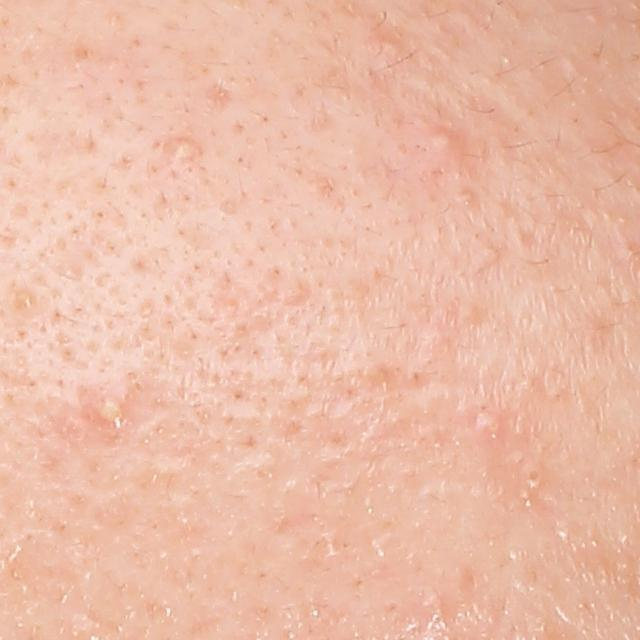atrophic_scar: (203, 79, 238, 108)
comedo: (165, 128, 205, 162), (469, 410, 505, 445), (365, 36, 402, 58), (519, 464, 544, 490), (18, 287, 40, 313)
pustule: (89, 392, 127, 428)
